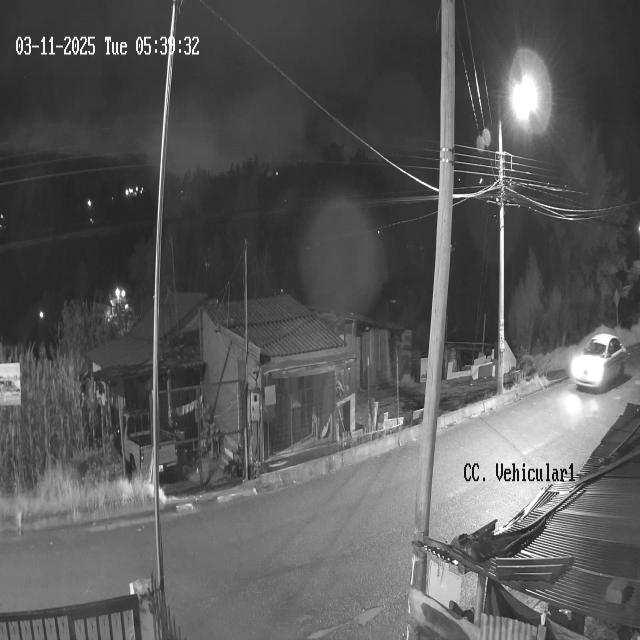SED: (572, 330, 626, 391)
